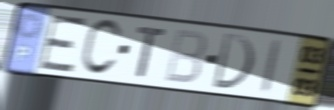B: (162, 27, 208, 87)
C: (78, 17, 124, 78)
D: (210, 31, 256, 93)
E: (36, 14, 90, 75)
I: (258, 37, 284, 96)
T: (135, 25, 169, 81)
